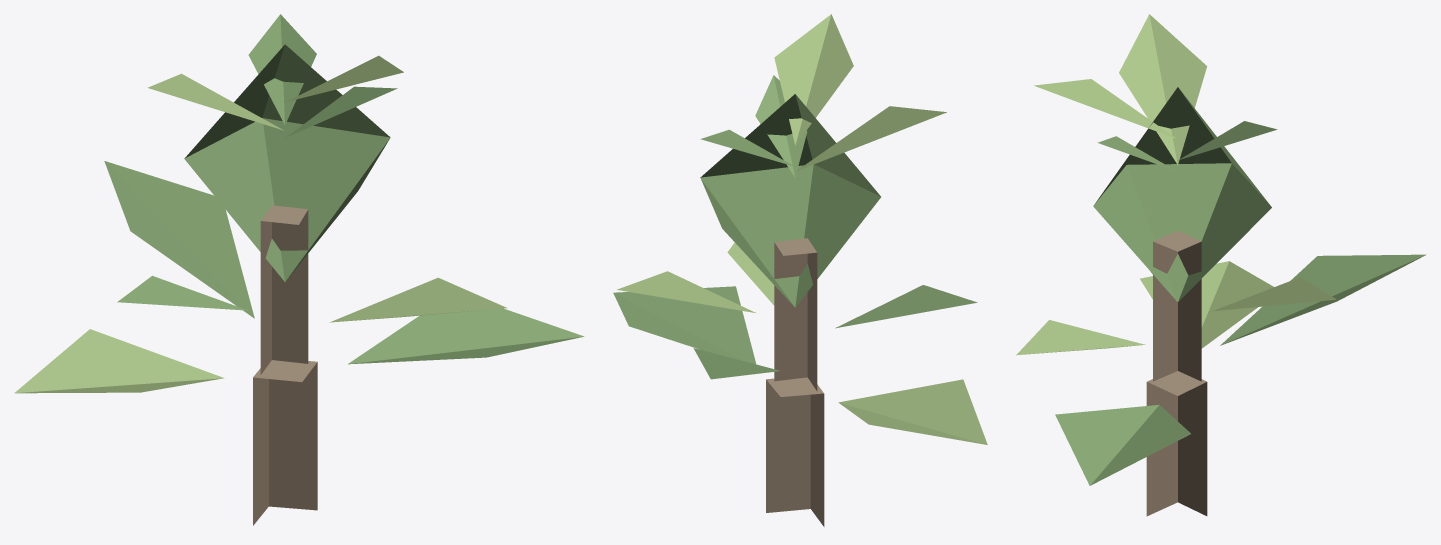
The model's file is shu.mangguo@seedling__spring.glb.
The picture shows the model from 3 angles, left to right: view 1: azimuth 30°, elevation 25°; view 2: azimuth 150°, elevation 25°; view 3: azimuth 270°, elevation 25°; orthographic projection. The views are drawn at different scales.
Parts seen in each view (by area): view 1: shu.mangguo@seedling__spring; view 2: shu.mangguo@seedling__spring; view 3: shu.mangguo@seedling__spring.
Boxes of the visible parts, x1,y1,x2,y2 form: shu.mangguo@seedling__spring: [14, 14, 584, 525]; shu.mangguo@seedling__spring: [613, 14, 987, 526]; shu.mangguo@seedling__spring: [1016, 14, 1426, 516].
Bounding box in the file's own units: 1.3 × 1.25 × 1.04.
